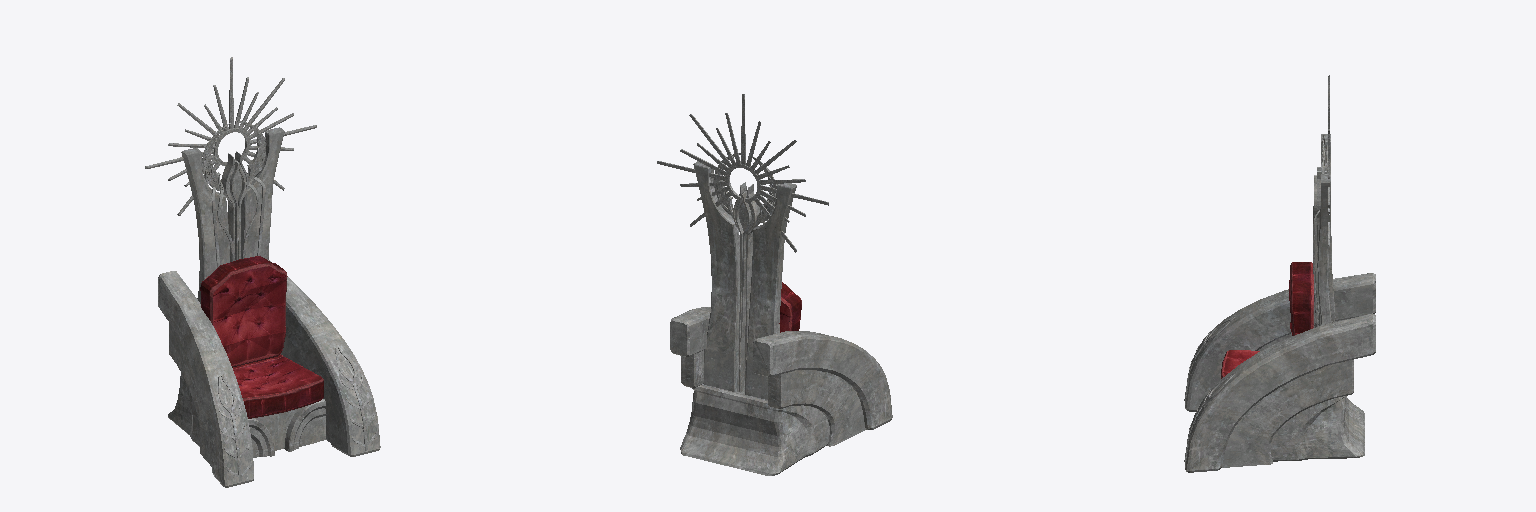
3 renders of one model, left to right at view 1: azimuth 30°, elevation 25°; view 2: azimuth 150°, elevation 25°; view 3: azimuth 270°, elevation 25°, orthographic.
Parts seen in each view (by area): view 1: 00___01, 00___02, 00___00; view 2: 00___01, 00___00, 00___02; view 3: 00___01, 00___02.
Part boxes in pixels (left/top/right/bottom): 00___01: left=158, top=121, right=380, bottom=487; 00___02: left=200, top=256, right=323, bottom=418; 00___00: left=145, top=57, right=316, bottom=215; 00___01: left=670, top=153, right=892, bottom=475; 00___00: left=657, top=94, right=828, bottom=252; 00___02: left=779, top=282, right=801, bottom=332; 00___01: left=1184, top=134, right=1375, bottom=472; 00___02: left=1221, top=262, right=1313, bottom=378.
Size of the model in its own units: 1.54 by 3.09 by 1.49.
Materials: 2 (2 with a texture image).